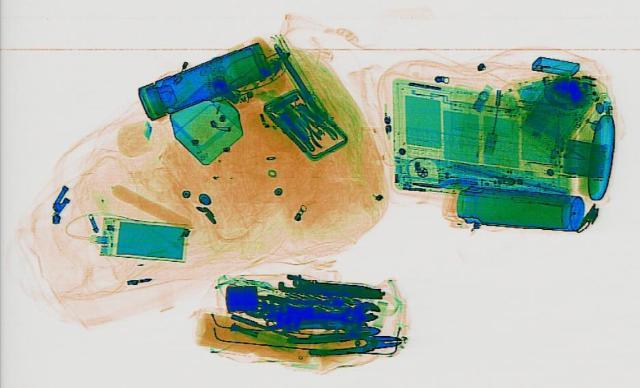Pliers: (304, 328, 401, 355), (286, 109, 344, 148)
Wrench: (282, 298, 378, 318)
